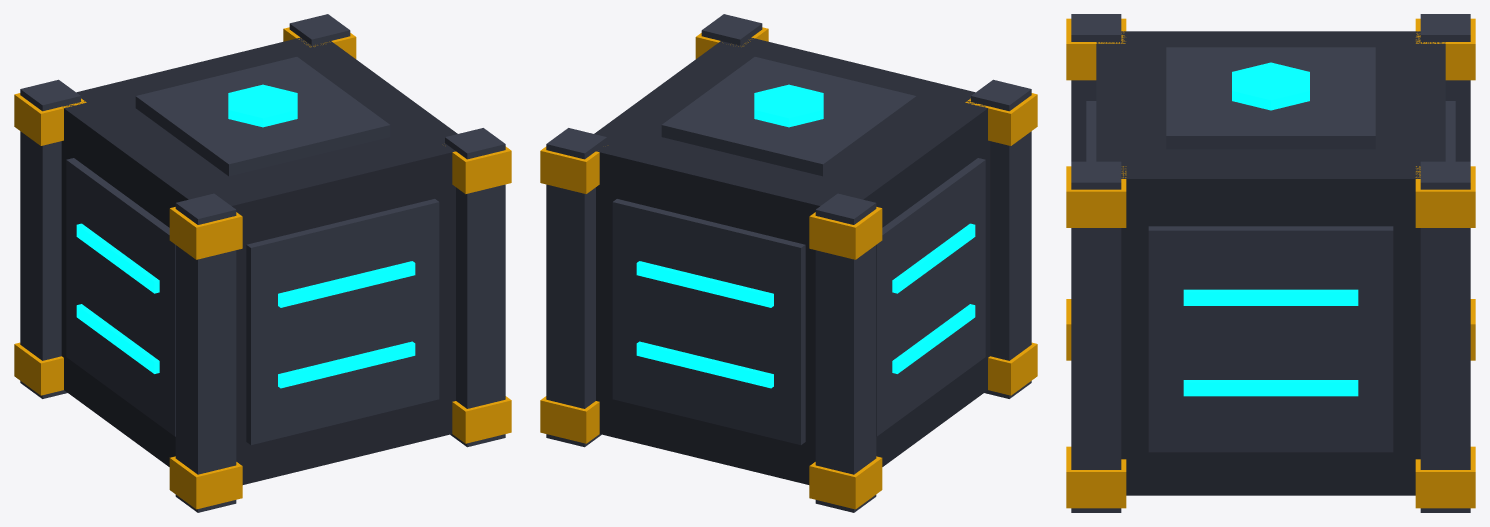
3 renders of one model, left to right at view 1: azimuth 30°, elevation 25°; view 2: azimuth 150°, elevation 25°; view 3: azimuth 270°, elevation 25°, orthographic. The views are drawn at different scales.
Parts seen in each view (by area): view 1: part_0, part_10, part_4, part_25, part_13, part_19, part_16, part_14, part_15, part_26, part_11, part_12 (+7 smaller); view 2: part_0, part_7, part_4, part_25, part_16, part_22, part_13, part_17, part_18, part_26, part_8, part_9 (+7 smaller); view 3: part_0, part_1, part_25, part_19, part_22, part_26, part_2, part_3, part_13, part_16, part_24, part_21 (+6 smaller).
Boxes of the visible parts, x1,y1,x2,y2 form: part_0: [61, 37, 457, 484]; part_10: [246, 199, 439, 444]; part_4: [66, 158, 175, 436]; part_25: [135, 57, 390, 176]; part_13: [175, 193, 236, 512]; part_19: [445, 128, 505, 447]; part_16: [20, 79, 80, 398]; part_14: [169, 456, 242, 509]; part_15: [169, 207, 242, 259]; part_26: [228, 84, 297, 127]; part_11: [278, 261, 415, 307]; part_12: [278, 341, 415, 388]; part_0: [594, 37, 990, 484]; part_7: [612, 199, 805, 444]; part_4: [876, 158, 985, 436]; part_25: [661, 57, 916, 176]; part_16: [815, 193, 876, 512]; part_22: [546, 128, 606, 447]; part_13: [971, 79, 1031, 398]; part_17: [809, 456, 882, 509]; part_18: [809, 207, 882, 259]; part_26: [754, 84, 823, 127]; part_8: [636, 261, 773, 307]; part_9: [636, 341, 773, 388]; part_0: [1096, 31, 1445, 495]; part_1: [1148, 226, 1393, 452]; part_25: [1166, 47, 1375, 149]; part_19: [1071, 161, 1121, 512]; part_22: [1420, 161, 1470, 512]; part_26: [1232, 62, 1309, 110]; part_2: [1183, 289, 1358, 305]; part_3: [1183, 380, 1358, 396]; part_13: [1071, 14, 1121, 161]; part_16: [1420, 14, 1470, 161]; part_24: [1415, 166, 1475, 227]; part_21: [1066, 166, 1126, 227].
Bounding box in the file's own units: 1.64 × 1.53 × 1.64.
